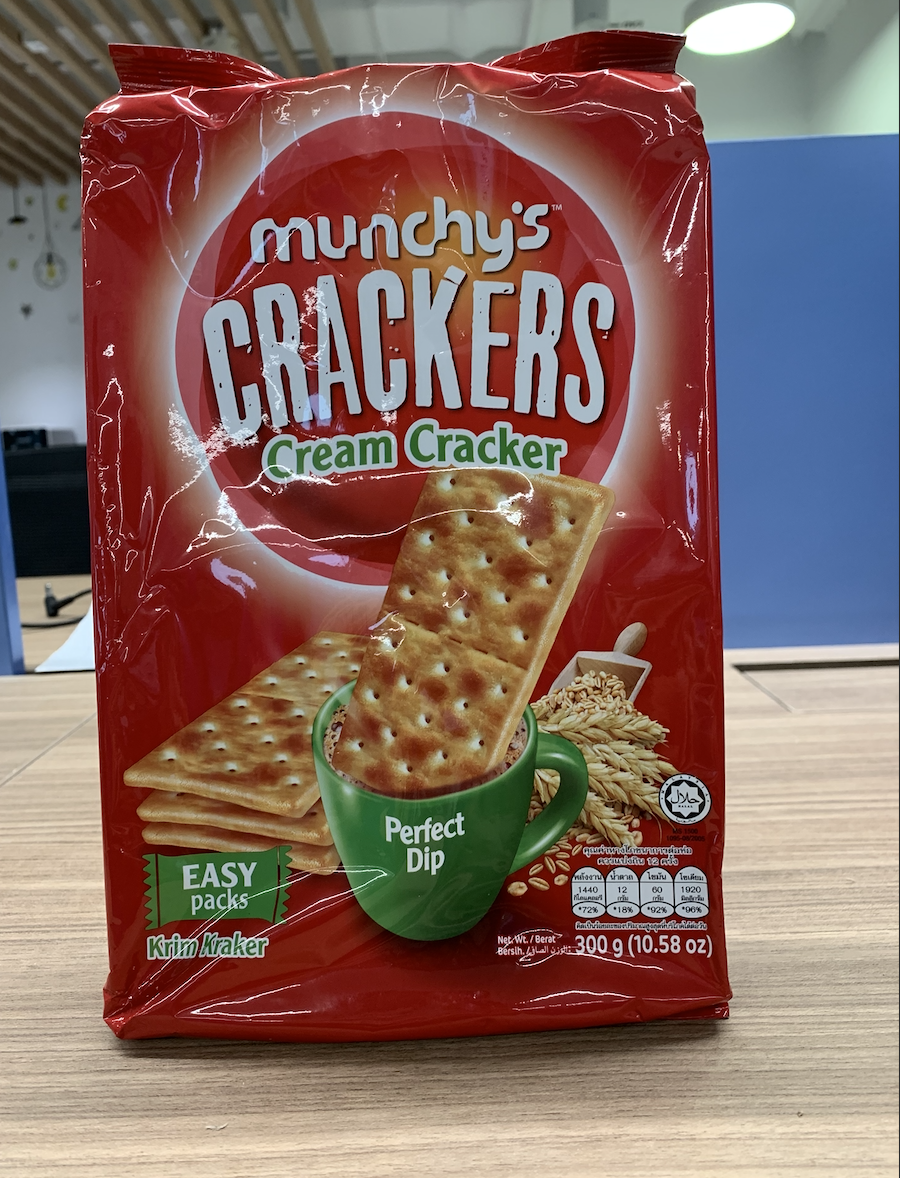crackers_450g: (125, 122, 723, 969)
